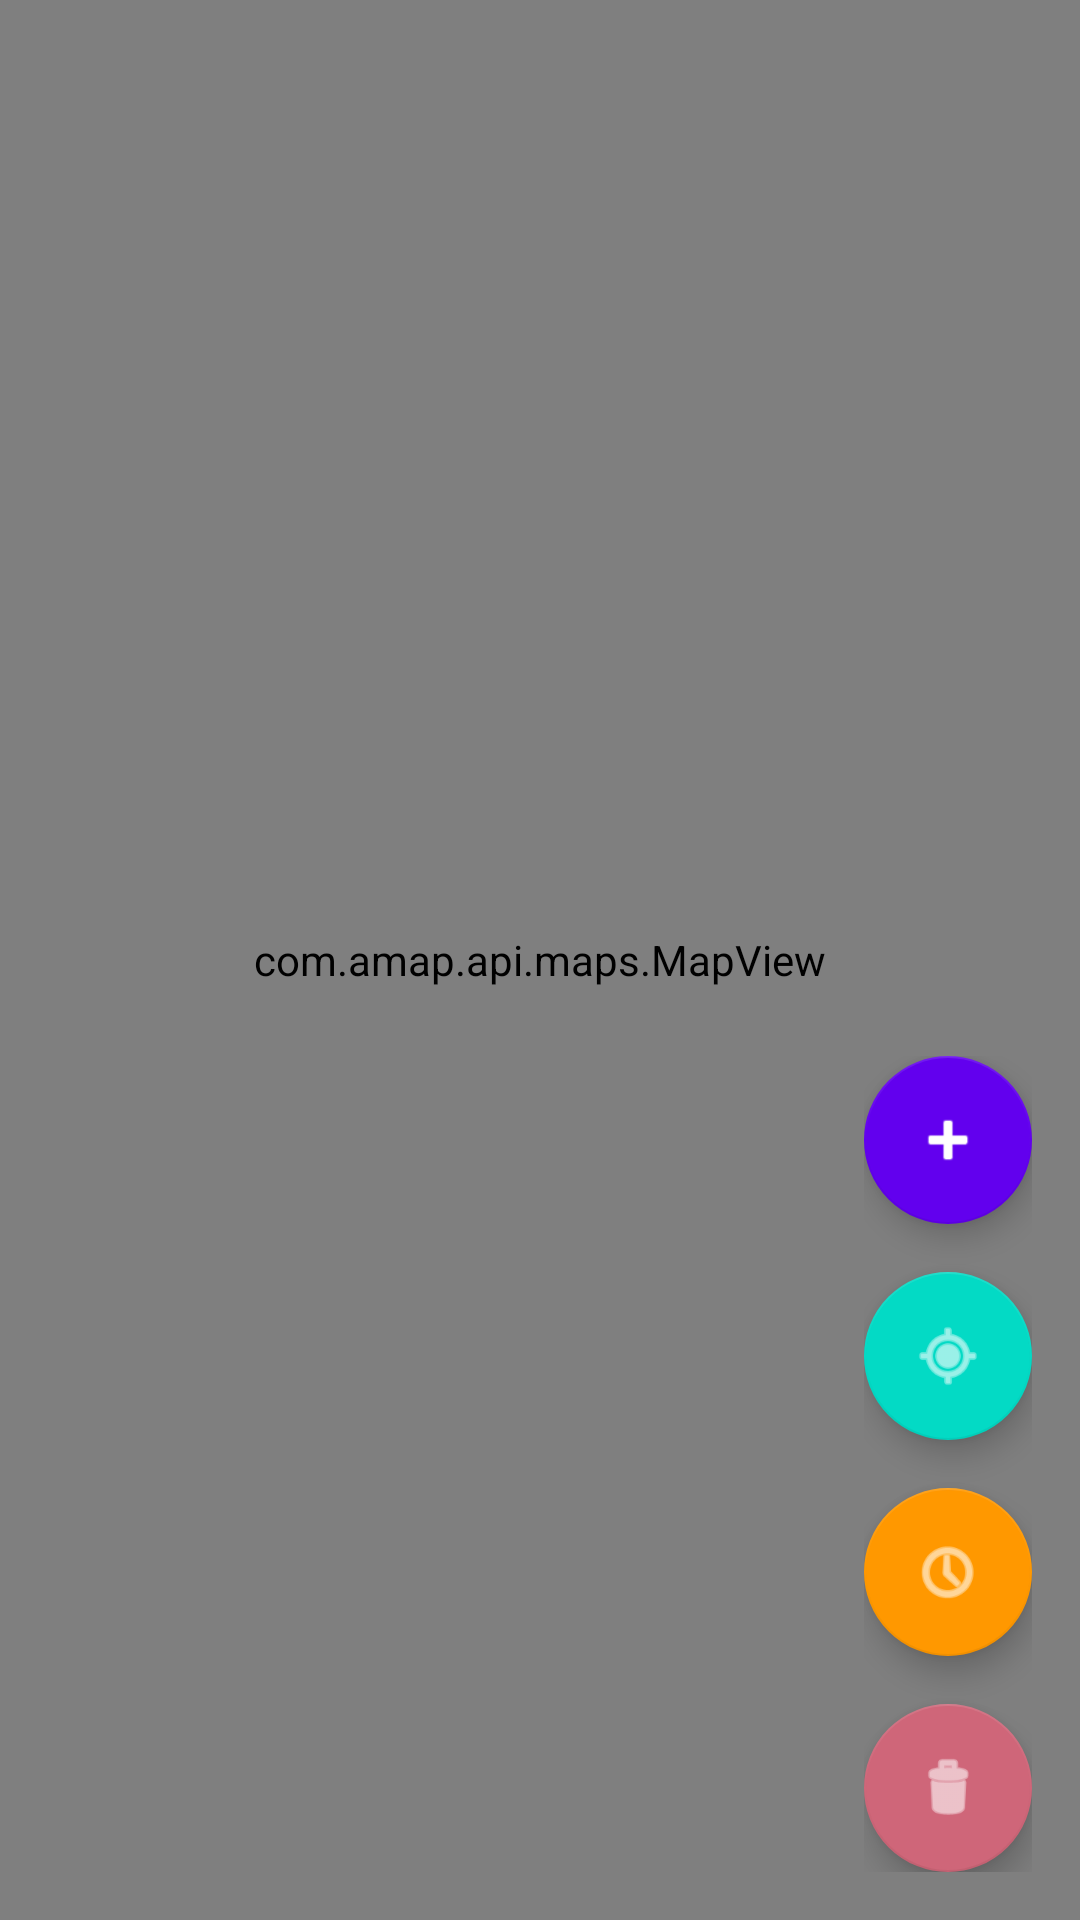

Locate icon controls on the screen. Image size 1080*1920, boxes as Rect(x1, y1, x2, y2).
删除轨迹: Rect(864, 1704, 1032, 1872)
当前位置: Rect(864, 1272, 1032, 1440)
我的轨迹: Rect(864, 1488, 1032, 1656)
添加轨迹: Rect(864, 1056, 1032, 1224)
